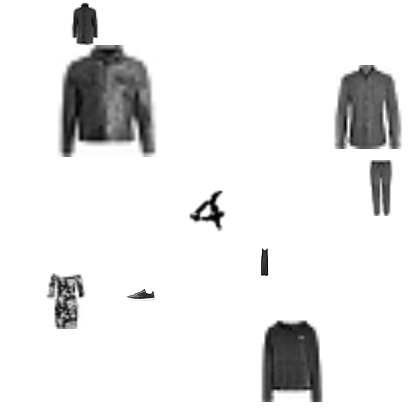4: (182, 183, 238, 239)
Coat: (51, 45, 163, 157), (63, 3, 105, 45)
Dress: (37, 273, 93, 329), (251, 248, 279, 276)
Pullover: (250, 318, 334, 402)
Shirt: (326, 65, 410, 149)
Sneaker: (127, 281, 155, 309)
Trouser: (352, 160, 408, 216)
